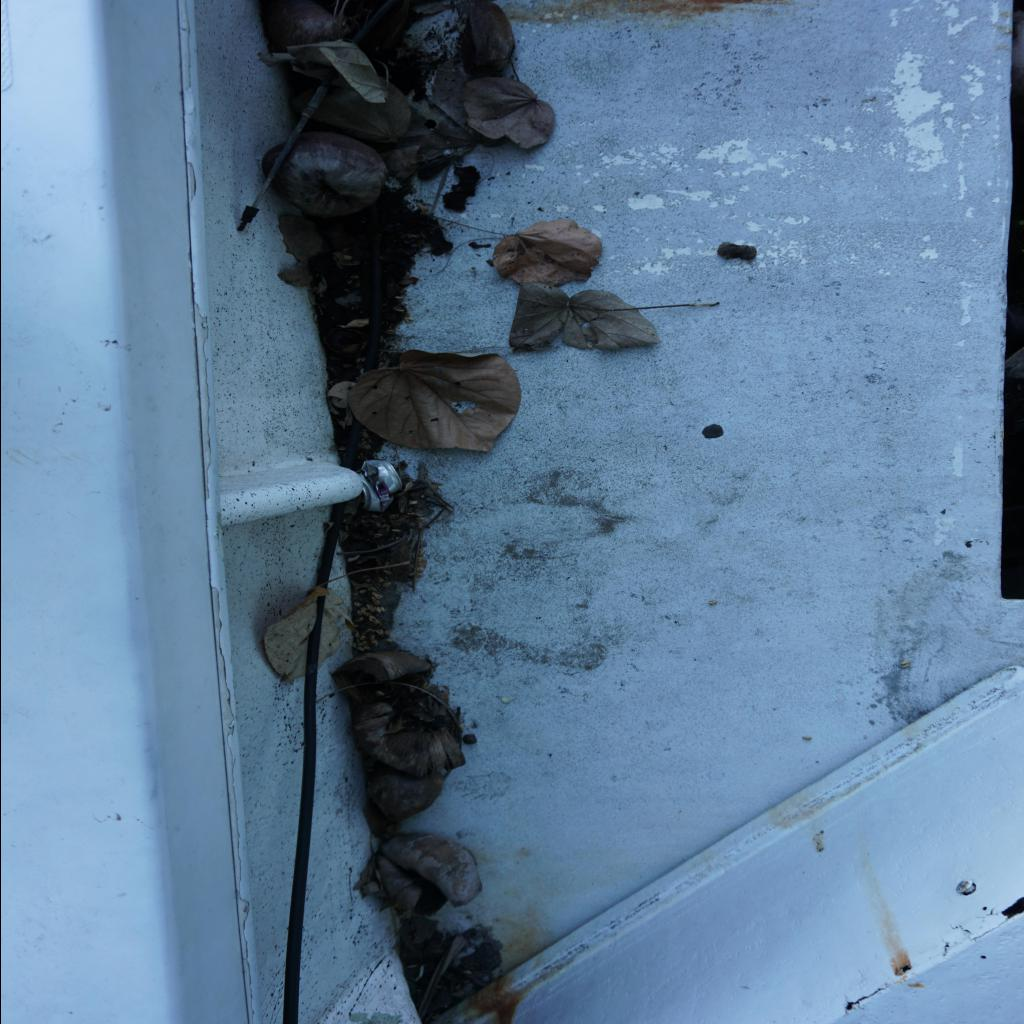Drink can: (358, 460, 402, 512)
